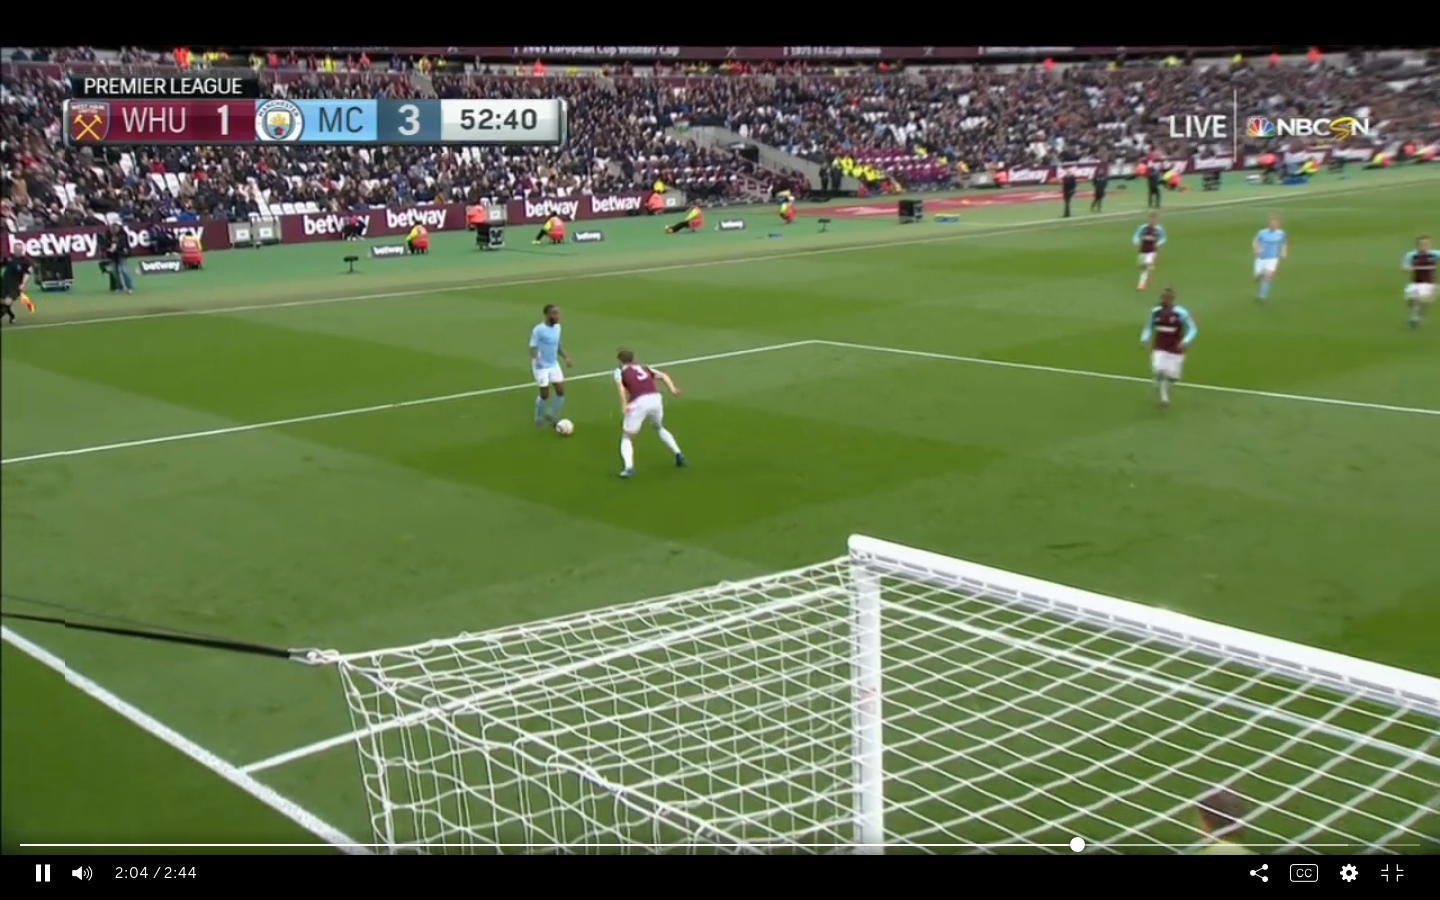soccer player: (605, 342, 688, 483), (1139, 285, 1202, 416), (524, 303, 564, 426), (1244, 211, 1290, 309), (1399, 232, 1440, 337), (1127, 214, 1167, 299)
soccerball: (556, 414, 576, 440)
